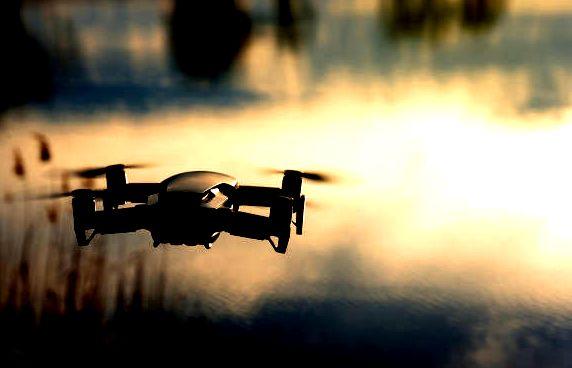Drone: (33, 159, 341, 259)
